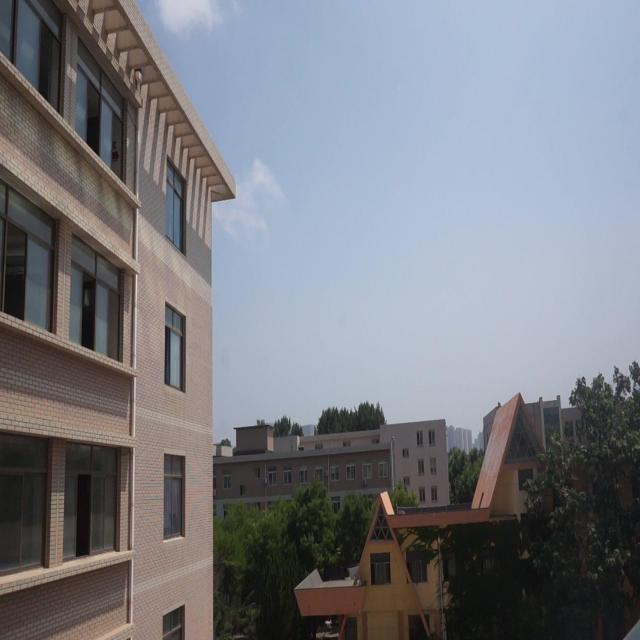UAV: (325, 619, 332, 628)
